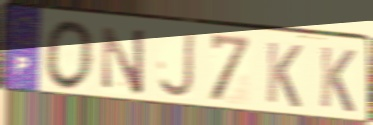7: (208, 32, 254, 105)
J: (156, 31, 196, 101)
K: (317, 44, 357, 116), (264, 39, 304, 111)
N: (100, 24, 147, 98)
O: (43, 18, 96, 94)
